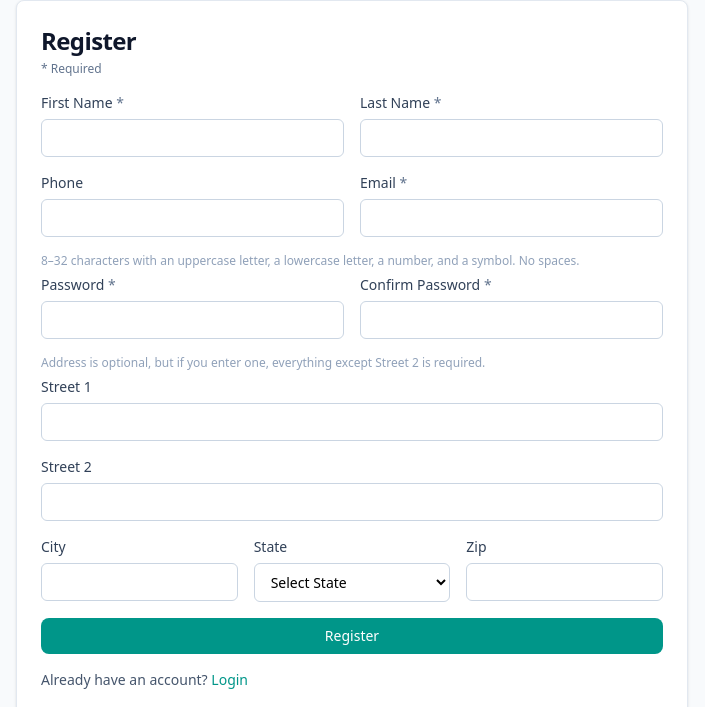
Test: Register › does not attempt a login when registration fails
In the field labelled "First Name *": (192, 138) [41,119,344,157], type "Ada"
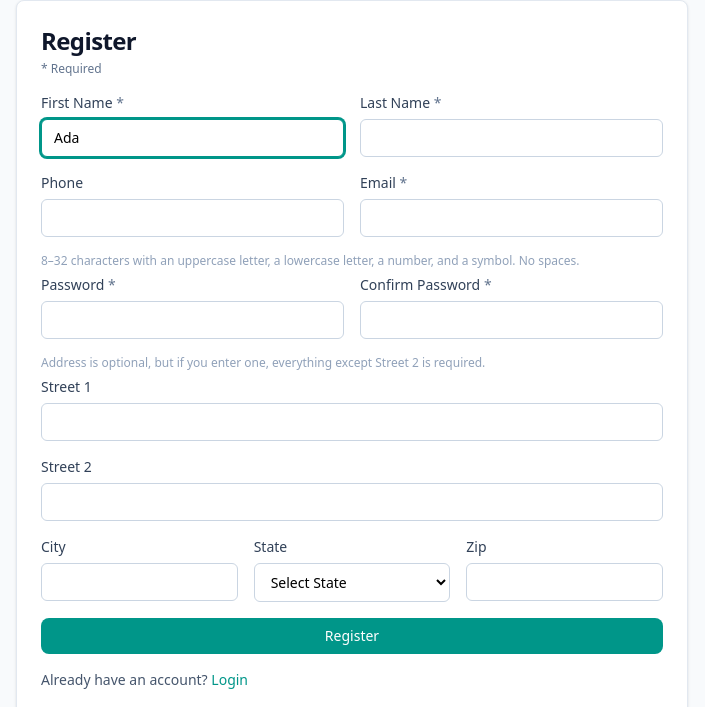
In the field labelled "Last Name *": (512, 138) [360,119,663,157], type "Lovelace"
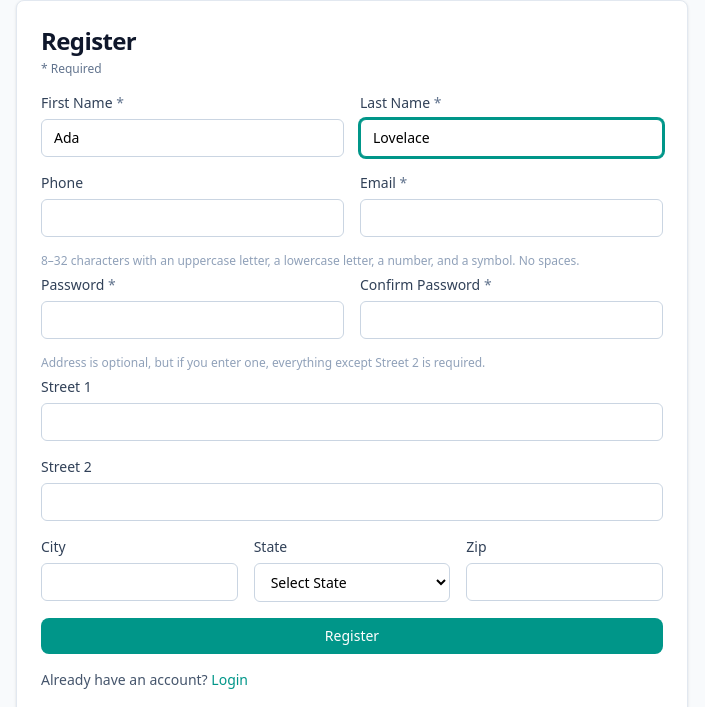
In the field labelled "Email *": (512, 218) [360,199,663,237], type "ada@example.com"
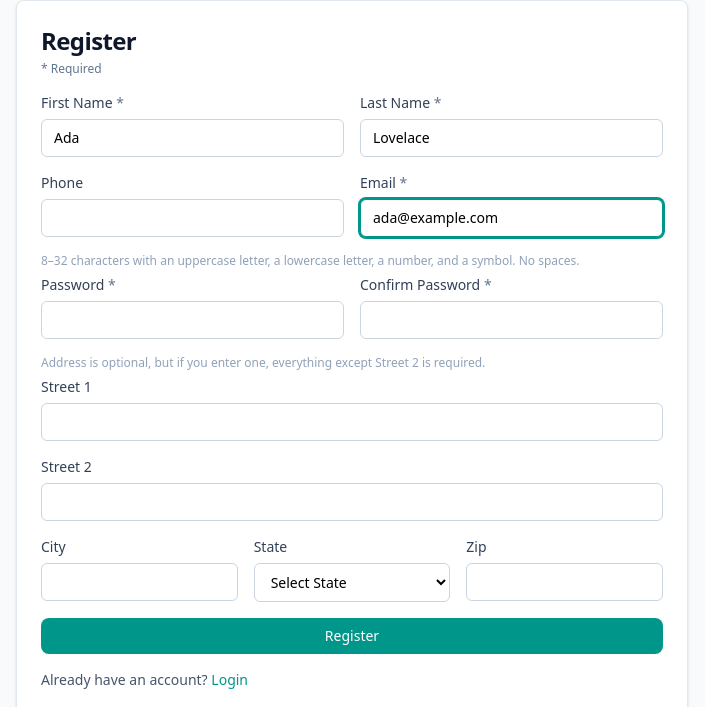
In the password field labelled "Password *": (192, 320) [41,301,344,339], type "Password1!"
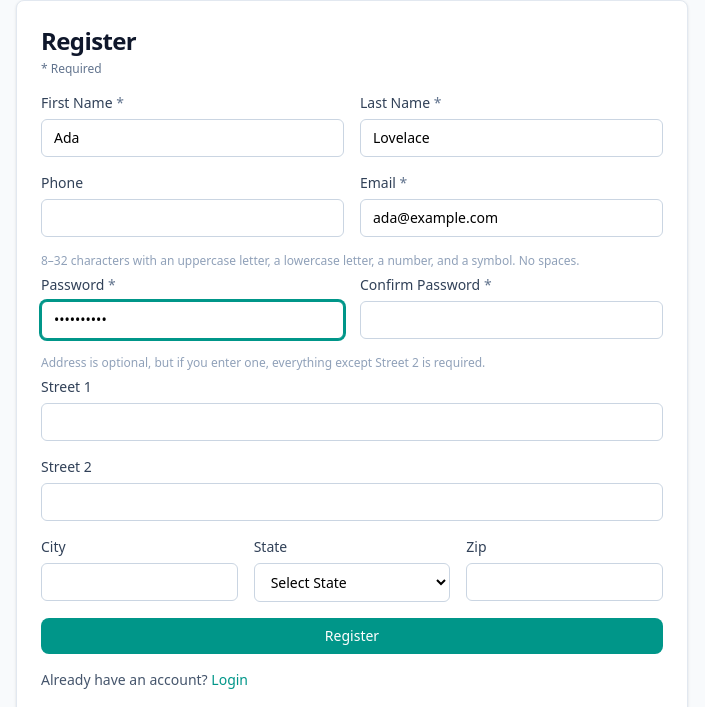
In the password field labelled "Confirm Password *": (512, 320) [360,301,663,339], type "Password1!"
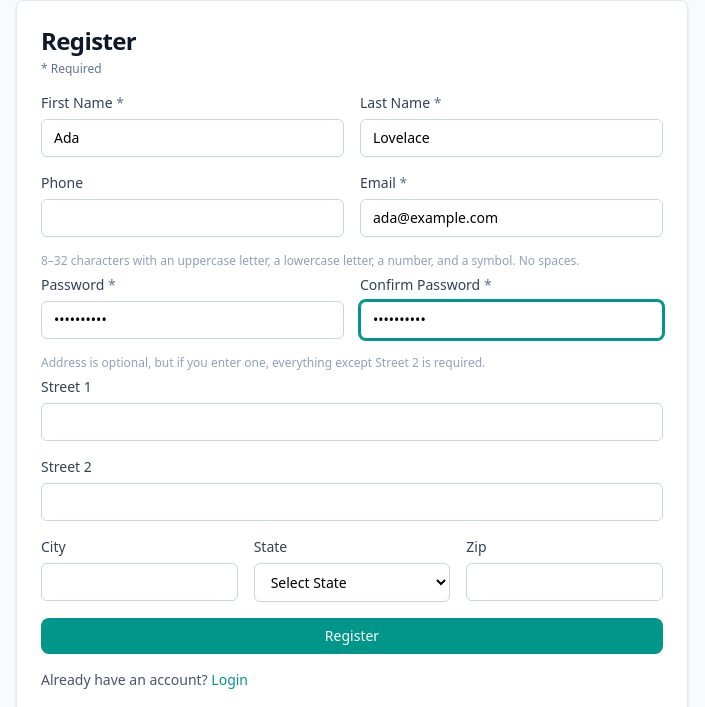
Click the button "Register": (352, 636) [41,618,663,654]
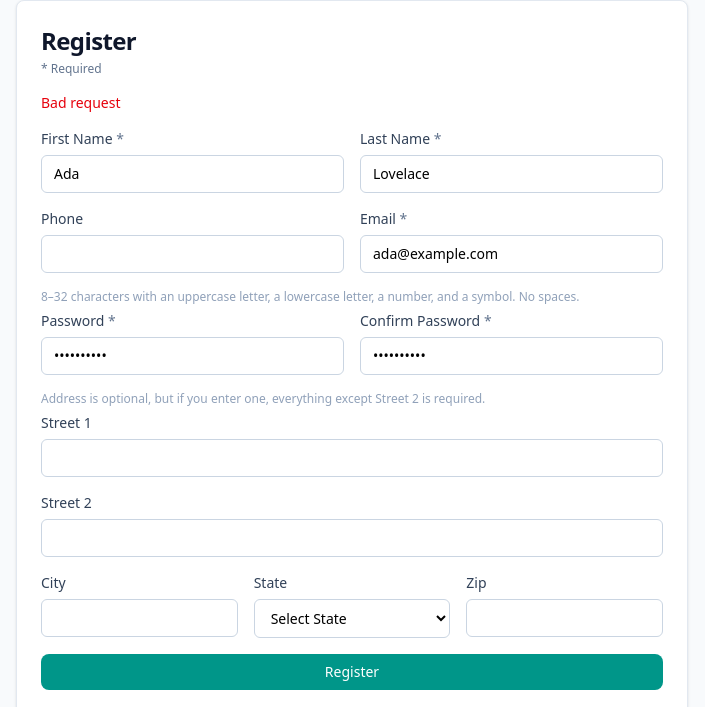
Expected: the message "Bad request" is shown, [41,93,120,112]
